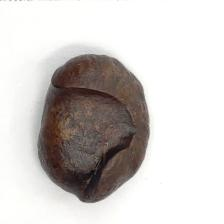NG: (47, 78, 138, 161), (63, 162, 114, 206)
